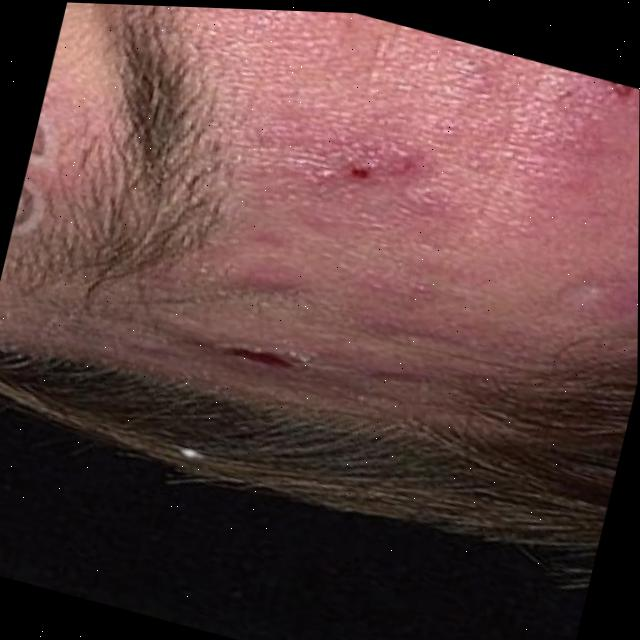Rosacea: (182, 7, 640, 467)
